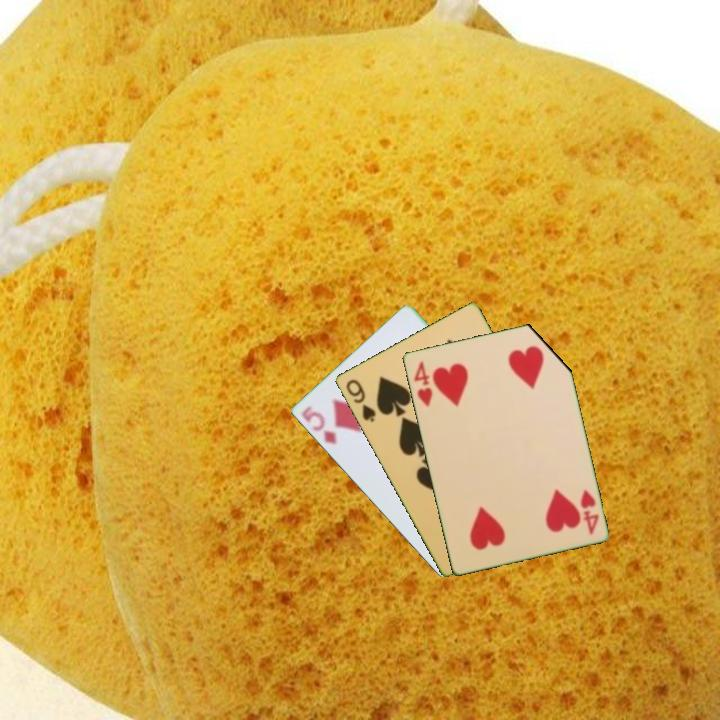4h: (410, 357, 435, 409), (576, 485, 601, 537)
5d: (297, 402, 339, 447)
9s: (342, 375, 379, 425)
